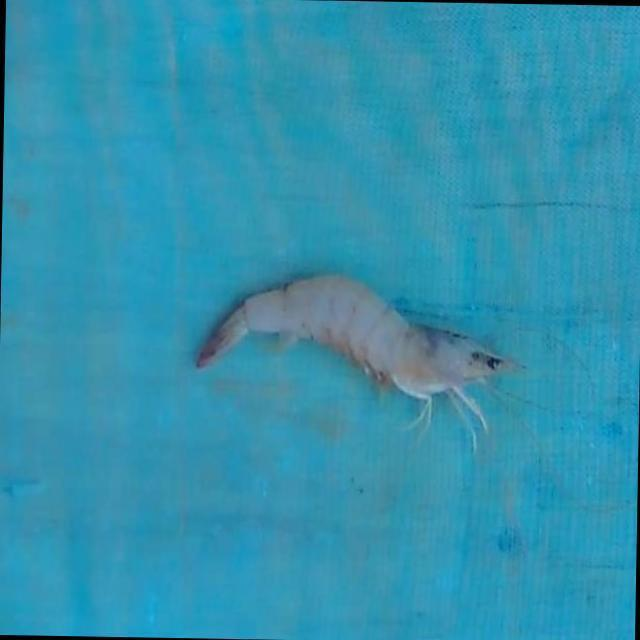shrimp: (196, 276, 510, 423)
